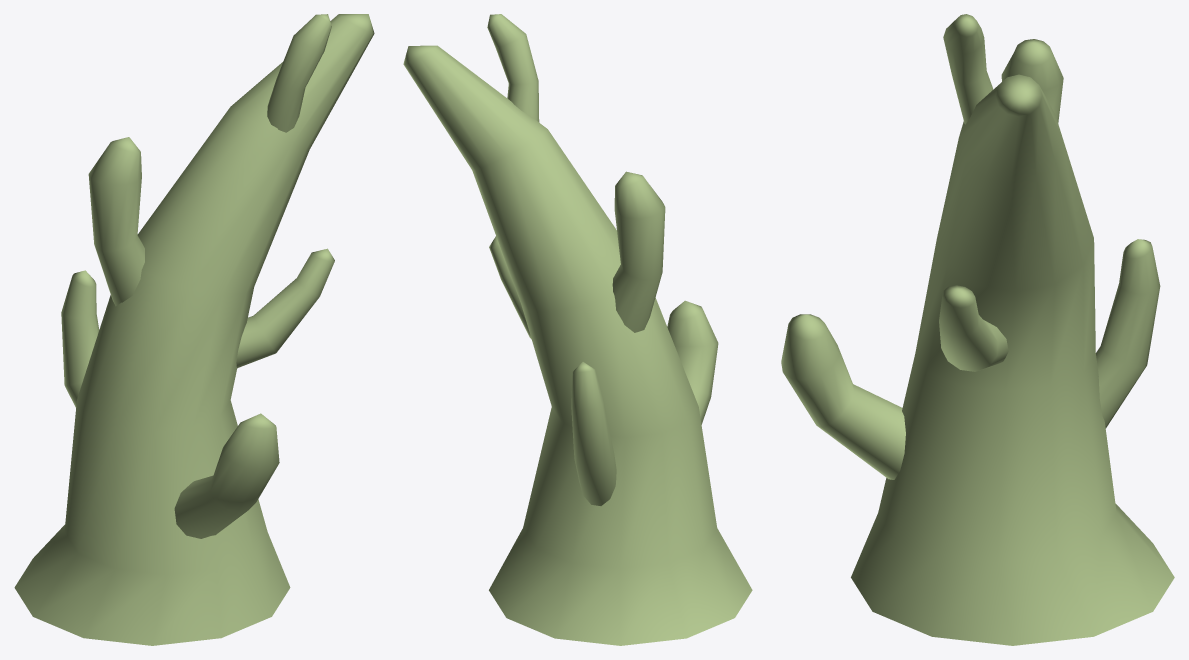
File: Coral 3.fbx
3 views of the same model, side by side, from view 1: azimuth 30°, elevation 25°; view 2: azimuth 150°, elevation 25°; view 3: azimuth 270°, elevation 25° (orthographic). The views are drawn at different scales.
Parts seen in each view (by area): view 1: Coral_2; view 2: Coral_2; view 3: Coral_2.
Part boxes in pixels (x1,y1,x2,y2): Coral_2: [14, 14, 374, 645]; Coral_2: [403, 14, 752, 645]; Coral_2: [781, 14, 1174, 645].
Size of the model in its own units: 1.16 by 1.8 by 0.9907.
